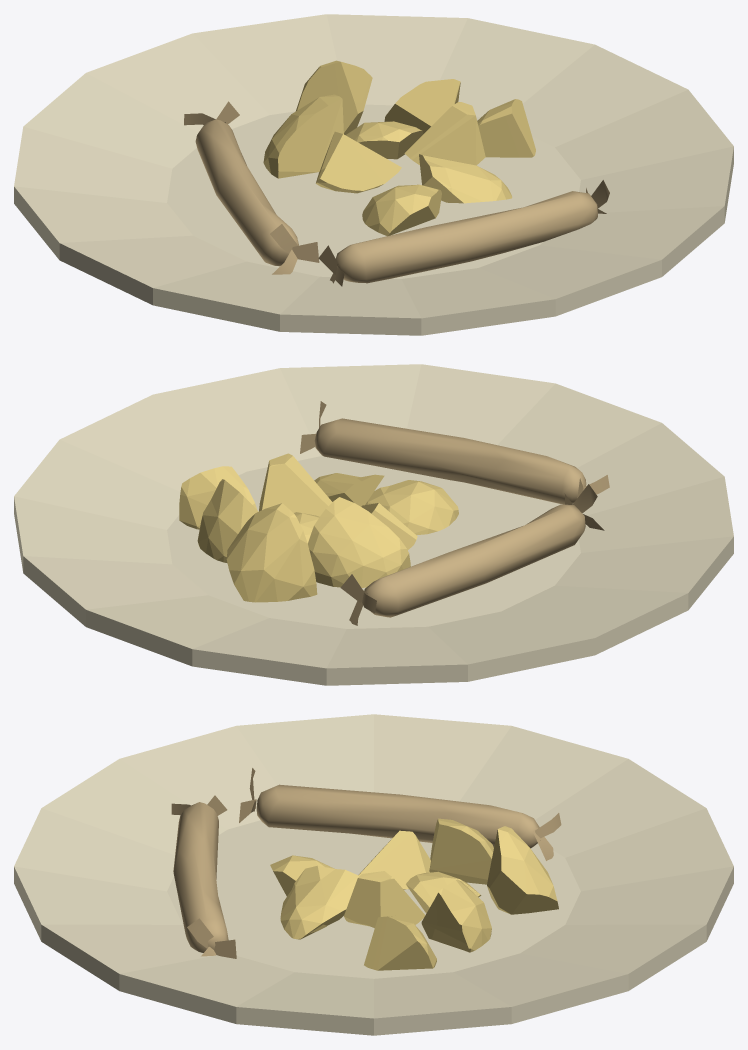
The model's file is AndouillettesButchered.fbx.
3 renders of one model, top to bottom at view 1: azimuth 30°, elevation 25°; view 2: azimuth 150°, elevation 25°; view 3: azimuth 270°, elevation 25°, orthographic.
Visible parts, largest first — view 1: Andouillettes_Butchered; view 2: Andouillettes_Butchered; view 3: Andouillettes_Butchered.
Boxes of the visible parts, bbox=[...] form: Andouillettes_Butchered: bbox=[14, 14, 733, 335]; Andouillettes_Butchered: bbox=[14, 364, 733, 685]; Andouillettes_Butchered: bbox=[14, 714, 733, 1035].
Size of the model in its own units: 0.6488 by 0.6488 by 0.1128.
